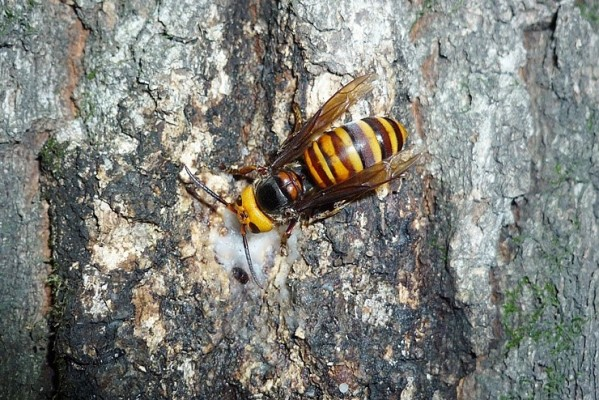asian_giant_hornet: (226, 85, 406, 246)
